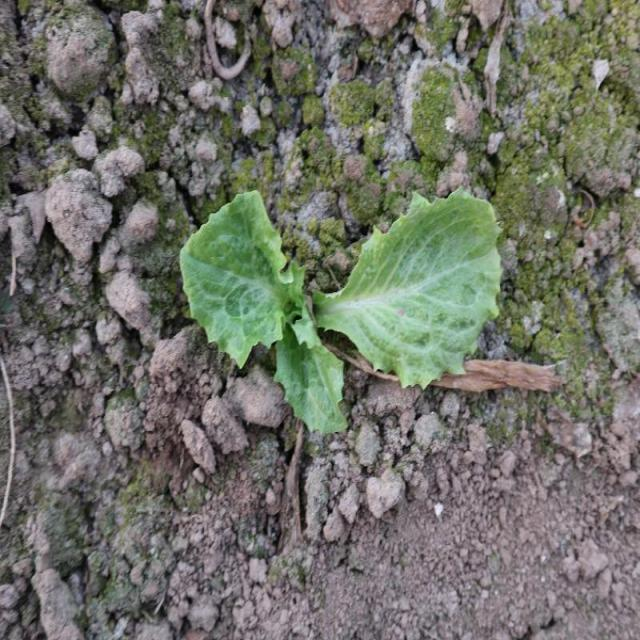crop: (178, 188, 504, 436)
